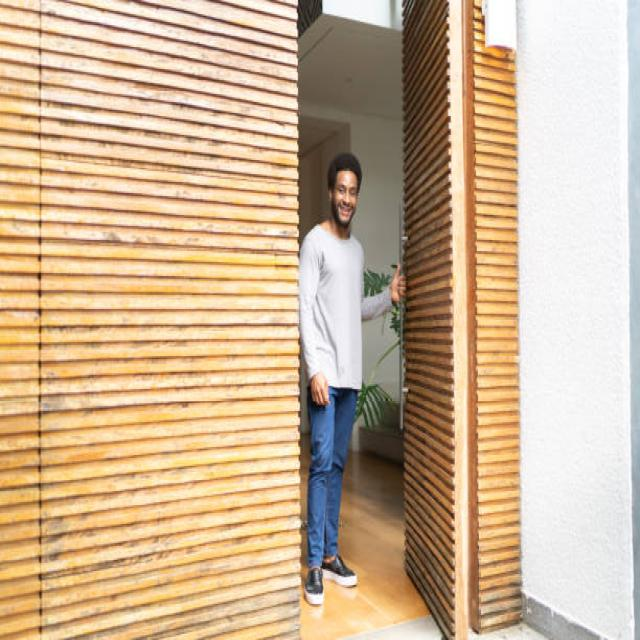Real human 2: (288, 140, 417, 620)
